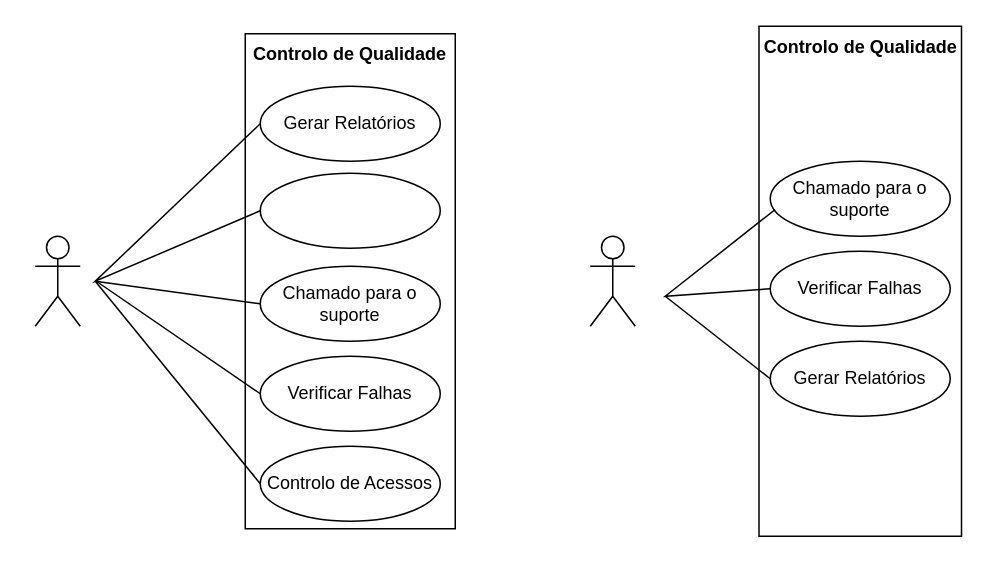
Some shapes in this 989 by 563 pixel diagram are drawn without their labels. The box of each missing label's shape, as (x1, y1, x2, y2) in pixels:
Coordenador: (589, 235, 635, 326)
Gerente: (34, 235, 80, 326)
Gerir Desempenho: (259, 172, 440, 248)
